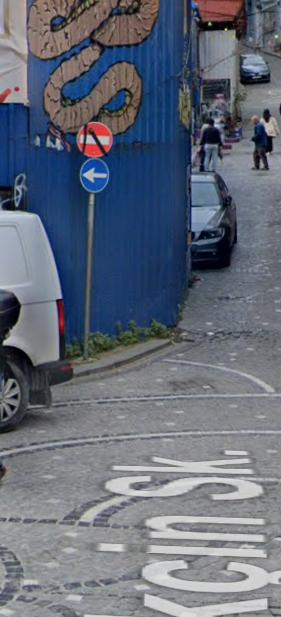turnright: (78, 156, 113, 196)
